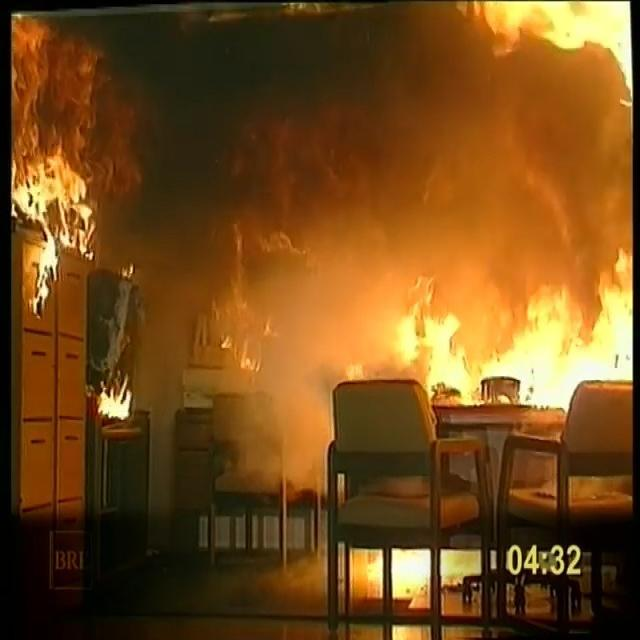Fire: (13, 5, 113, 312)
